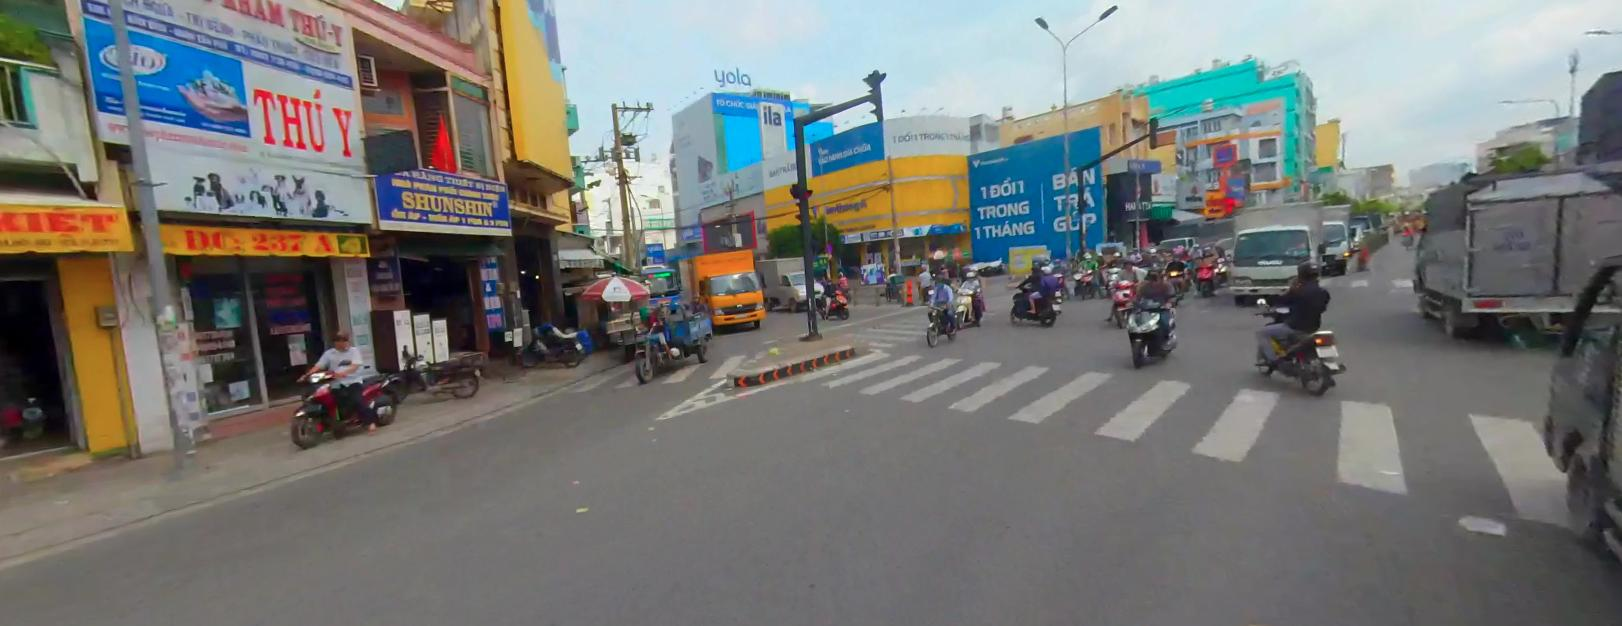Cam dung va do: (824, 240, 832, 254)
